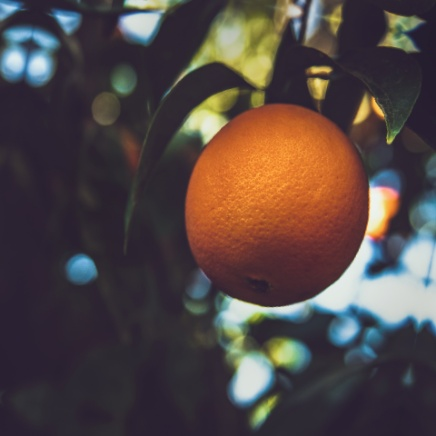orange: (148, 81, 425, 338)
